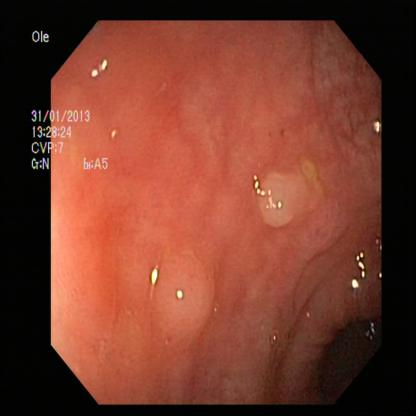Labels: (30, 23, 114, 176)
Polyps: (148, 242, 221, 336), (260, 162, 320, 234)
